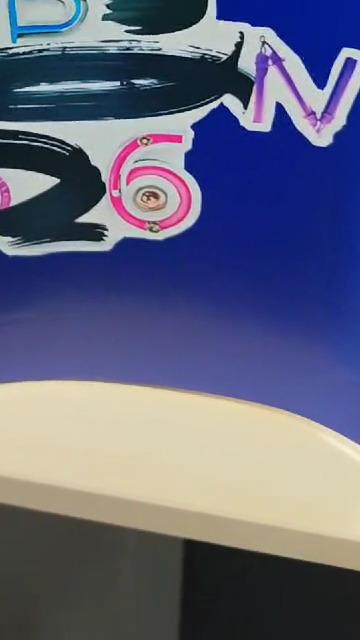B_R1: (0, 0, 359, 341)
